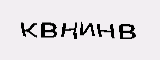В: (118, 21, 138, 43), (39, 19, 59, 40)
И: (79, 20, 95, 36)
К: (18, 20, 39, 39)
Н: (95, 20, 116, 42)
Ң: (59, 19, 79, 39)
